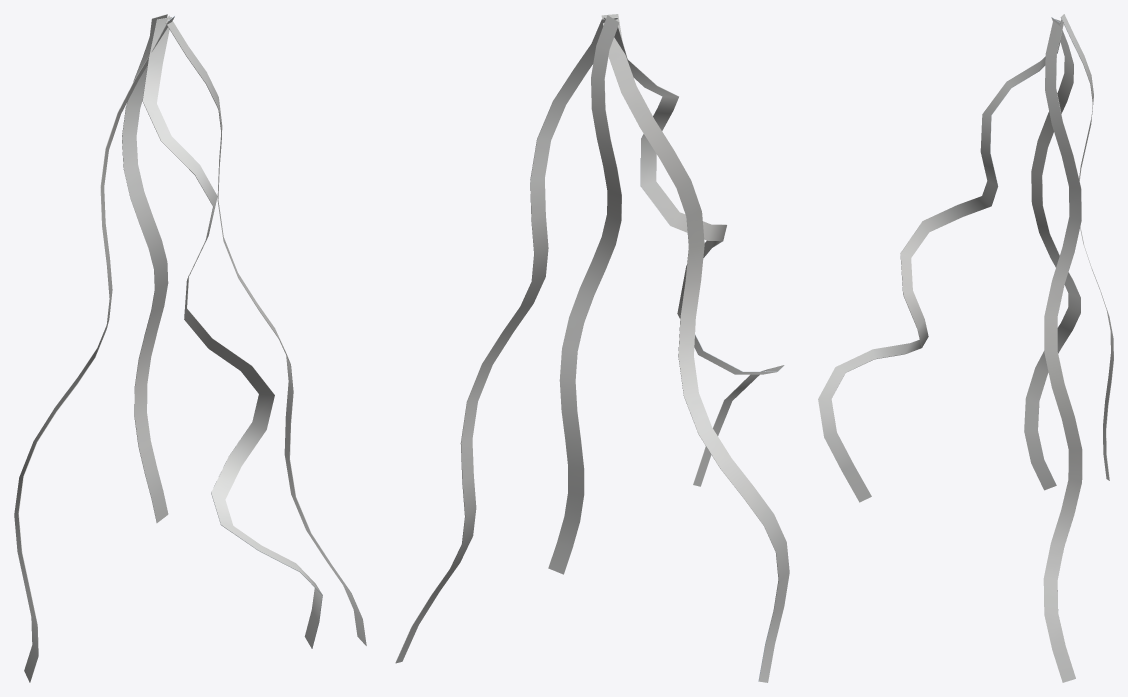
File: PartyBalloons02_Decor4.FBX
The picture shows the model from 3 angles, left to right: view 1: azimuth 30°, elevation 25°; view 2: azimuth 150°, elevation 25°; view 3: azimuth 270°, elevation 25°; orthographic projection. The views are drawn at different scales.
Visible parts, largest first — view 1: PartyBalloons02_Decor4; view 2: PartyBalloons02_Decor4; view 3: PartyBalloons02_Decor4.
Part boxes in pixels (<box>): PartyBalloons02_Decor4: <box>14,14,366,682</box>; PartyBalloons02_Decor4: <box>395,14,789,682</box>; PartyBalloons02_Decor4: <box>818,14,1113,682</box>.
Bounding box in the file's own units: 0.1516 × 0.2736 × 0.126.
